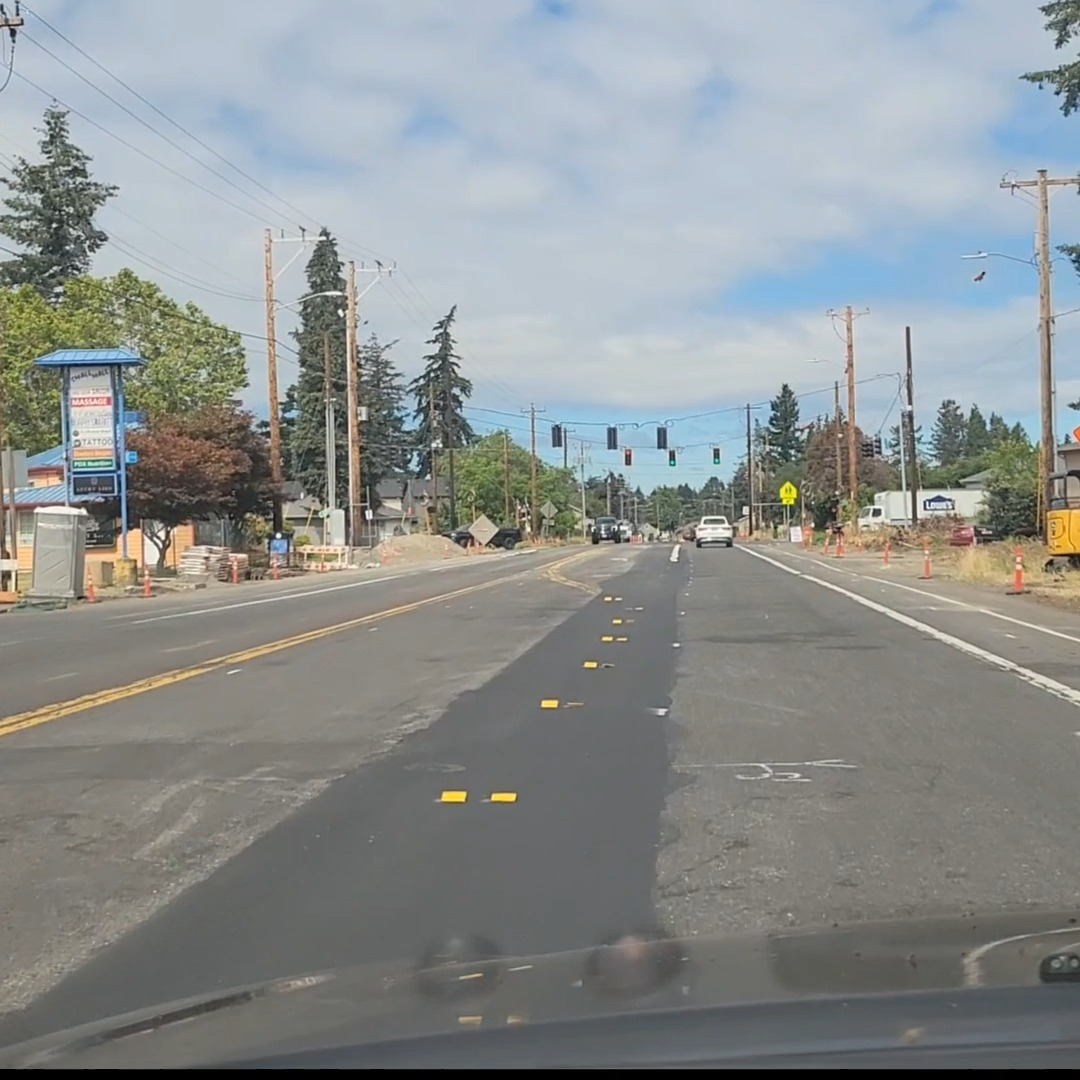car: (694, 515, 734, 547), (483, 526, 523, 549), (589, 517, 620, 543), (681, 525, 696, 541)
crosswalk-sign: (779, 481, 797, 504)
delineator: (1004, 547, 1028, 592), (917, 541, 934, 579), (84, 567, 98, 603), (142, 568, 152, 597), (881, 537, 891, 565), (834, 530, 844, 557), (378, 540, 389, 563), (467, 539, 481, 555), (270, 557, 280, 579), (802, 527, 812, 548), (854, 529, 863, 550), (441, 541, 452, 558), (231, 559, 239, 582), (969, 528, 978, 548), (629, 534, 641, 543), (318, 561, 327, 572)
